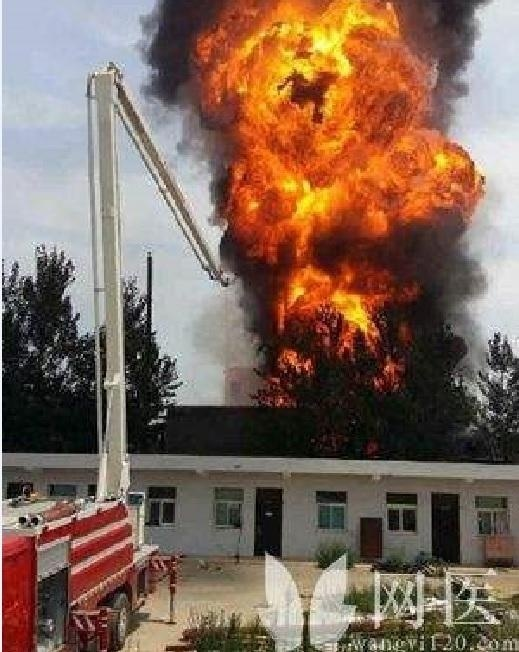fire: (192, 8, 487, 390)
